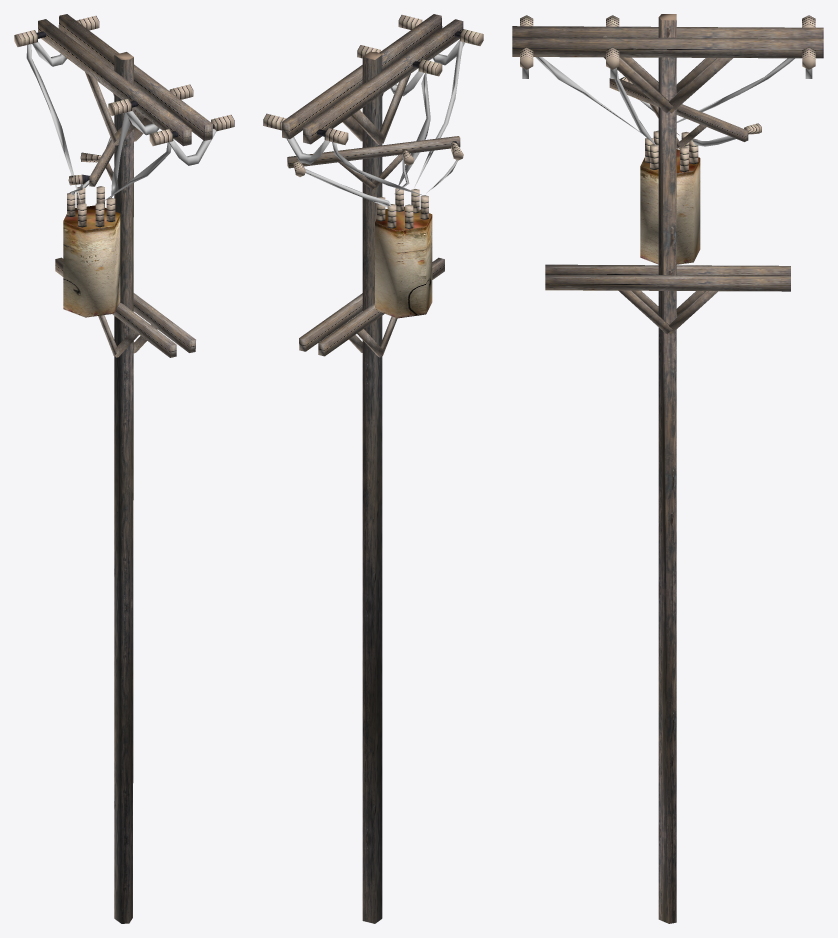
The model's file is PowerPoleTrans_3.fbx.
The picture shows the model from 3 angles, left to right: view 1: azimuth 30°, elevation 25°; view 2: azimuth 150°, elevation 25°; view 3: azimuth 270°, elevation 25°; orthographic projection. The views are drawn at different scales.
Visible parts, largest first — view 1: main700, pole700, wires700; view 2: main700, pole700, wires700; view 3: main700, pole700, wires700.
Boxes of the visible parts, x1=… form: main700: x1=14, y1=14, x2=234, y2=357; pole700: x1=114, y1=52, x2=133, y2=923; wires700: x1=26, y1=42, x2=216, y2=201; main700: x1=263, y1=14, x2=483, y2=357; pole700: x1=362, y1=51, x2=382, y2=923; wires700: x1=287, y1=39, x2=464, y2=207; main700: x1=512, y1=15, x2=823, y2=334; pole700: x1=658, y1=14, x2=676, y2=923; wires700: x1=522, y1=57, x2=812, y2=146.
Bounding box in the file's own units: 1.38 × 9.3 × 2.91.
